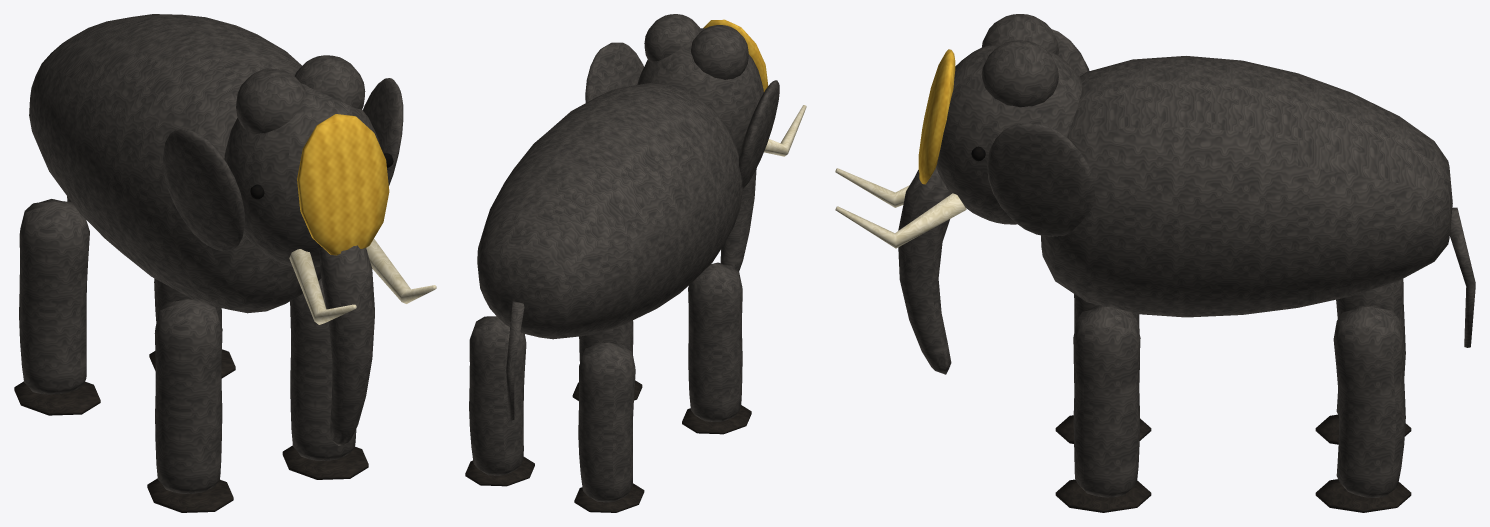
Rendered from animal_temple_elephant.glb.
3 views of the same model, side by side, from view 1: azimuth 30°, elevation 25°; view 2: azimuth 150°, elevation 25°; view 3: azimuth 270°, elevation 25° (orthographic). The views are drawn at different scales.
Parts seen in each view (by area): view 1: Body.006, Head.006, Leg_BL.004, Leg_FL.006, Nettipattam, Leg_FR.006, Tusks, Leg_BL_Foot.004, Leg_FR_Foot.004, Leg_FL_Foot.004, Leg_BR.004; view 2: Body.006, Head.006, Leg_BL.004, Leg_FL.006, Leg_BR.004, Tail.006, Leg_FL_Foot.004, Leg_BR_Foot.004, Leg_BL_Foot.004, Leg_FR.006, Nettipattam, Tusks; view 3: Body.006, Head.006, Leg_BR.004, Leg_FR.006, Tusks, Nettipattam, Leg_FR_Foot.004, Leg_BR_Foot.004, Leg_BL.004, Tail.006.
Boxes of the visible parts, x1=… form: Body.006: x1=29, y1=14, x2=321, y2=313; Head.006: x1=163, y1=55, x2=403, y2=445; Leg_BL.004: x1=19, y1=199, x2=89, y2=394; Leg_FL.006: x1=154, y1=298, x2=222, y2=493; Nettipattam: x1=297, y1=114, x2=389, y2=255; Leg_FR.006: x1=290, y1=278, x2=356, y2=460; Tusks: x1=289, y1=239, x2=436, y2=324; Leg_BL_Foot.004: x1=14, y1=381, x2=100, y2=415; Leg_FR_Foot.004: x1=282, y1=445, x2=368, y2=479; Leg_FL_Foot.004: x1=147, y1=478, x2=233, y2=512; Leg_BR.004: x1=154, y1=278, x2=221, y2=326; Body.006: x1=477, y1=82, x2=742, y2=339; Head.006: x1=585, y1=14, x2=779, y2=271; Leg_BL.004: x1=578, y1=342, x2=635, y2=502; Leg_FL.006: x1=688, y1=262, x2=742, y2=421; Leg_BR.004: x1=469, y1=316, x2=526, y2=475; Tail.006: x1=506, y1=301, x2=524, y2=420; Leg_FL_Foot.004: x1=682, y1=405, x2=751, y2=434; Leg_BR_Foot.004: x1=465, y1=457, x2=534, y2=486; Leg_BL_Foot.004: x1=574, y1=483, x2=644, y2=512; Leg_FR.006: x1=579, y1=320, x2=633, y2=362; Nettipattam: x1=703, y1=19, x2=768, y2=91; Tusks: x1=764, y1=105, x2=806, y2=156; Body.006: x1=1041, y1=56, x2=1452, y2=317; Head.006: x1=898, y1=14, x2=1094, y2=374; Leg_BR.004: x1=1333, y1=305, x2=1405, y2=497; Leg_FR.006: x1=1073, y1=306, x2=1140, y2=497; Tusks: x1=835, y1=168, x2=966, y2=248; Nettipattam: x1=918, y1=49, x2=955, y2=184; Leg_FR_Foot.004: x1=1055, y1=479, x2=1151, y2=512; Leg_BR_Foot.004: x1=1315, y1=479, x2=1411, y2=512; Leg_BL.004: x1=1336, y1=279, x2=1405, y2=415; Tail.006: x1=1450, y1=207, x2=1475, y2=347.
Bounding box in the file's own units: 1.41 × 2.77 × 3.69.
5 materials, 5 textured.
